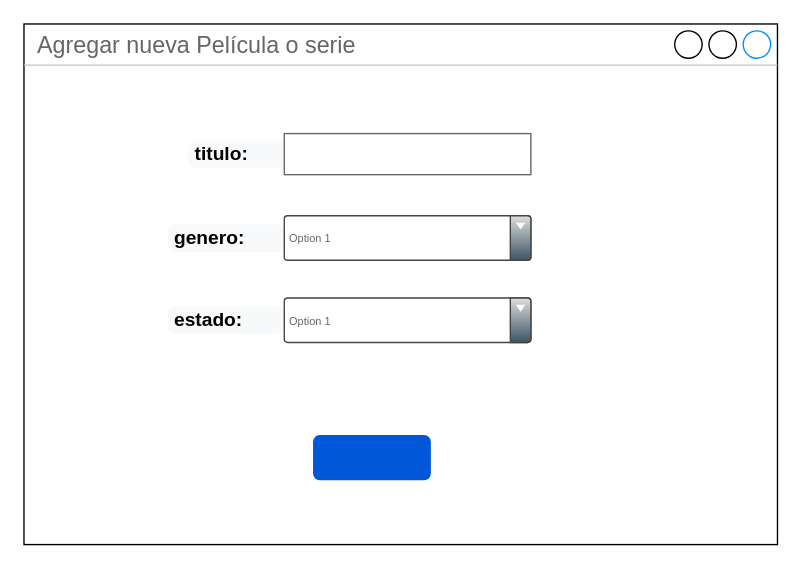
This 801x569 diagram has some shape labels left out. Each missing label, with the centre of its shape:
GUARDAR: point (371, 457)
Line 1: point (407, 153)
